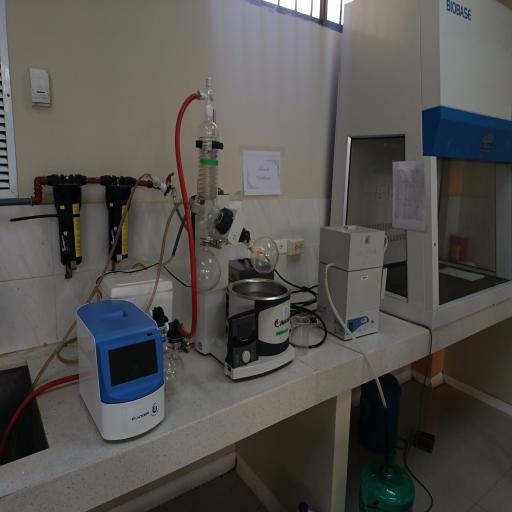Destilador_agua: (314, 213, 394, 349)
